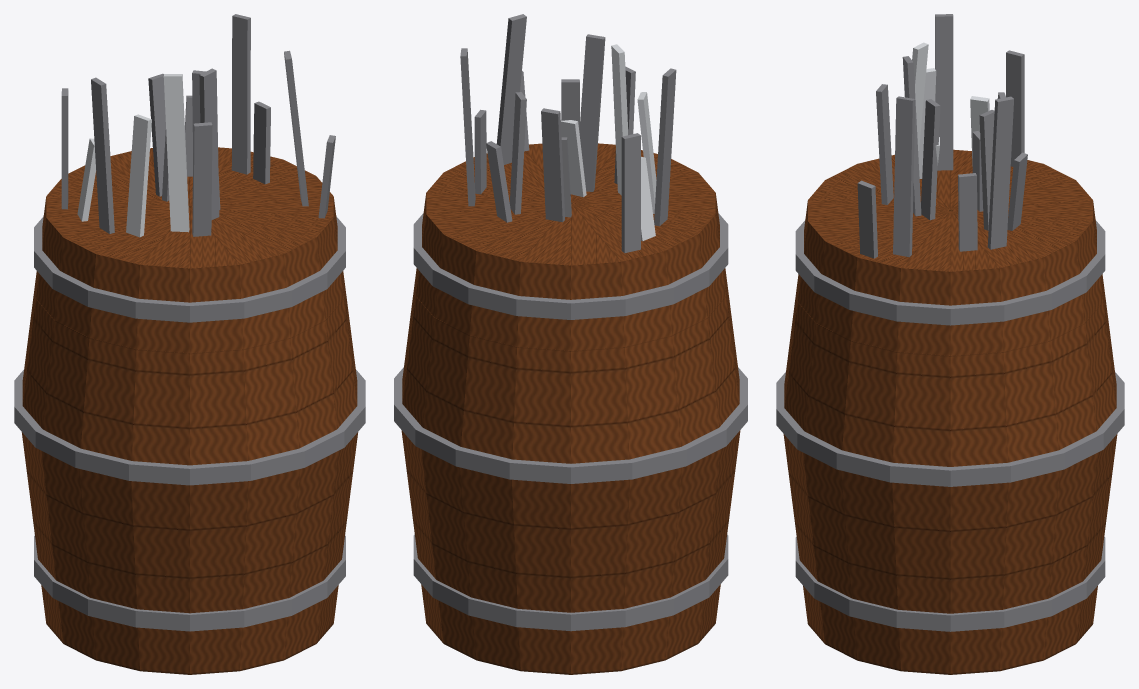
Rendered from blacksmith-forge-and-armoury-blacksmith-forge-and-armo-f026a6dd__37594.glb.
3 renders of one model, left to right at view 1: azimuth 30°, elevation 25°; view 2: azimuth 150°, elevation 25°; view 3: azimuth 270°, elevation 25°, orthographic.
Visible parts, largest first — view 1: blacksmith-forge-and-armoury-blank-barrel; view 2: blacksmith-forge-and-armoury-blank-barrel; view 3: blacksmith-forge-and-armoury-blank-barrel.
Boxes of the visible parts, bbox=[...] form: blacksmith-forge-and-armoury-blank-barrel: bbox=[14, 14, 365, 674]; blacksmith-forge-and-armoury-blank-barrel: bbox=[394, 14, 747, 674]; blacksmith-forge-and-armoury-blank-barrel: bbox=[776, 14, 1124, 674].
Size of the model in its own units: 0.6841 by 1.18 by 0.6737.
Materials: 3 (1 with a texture image).
